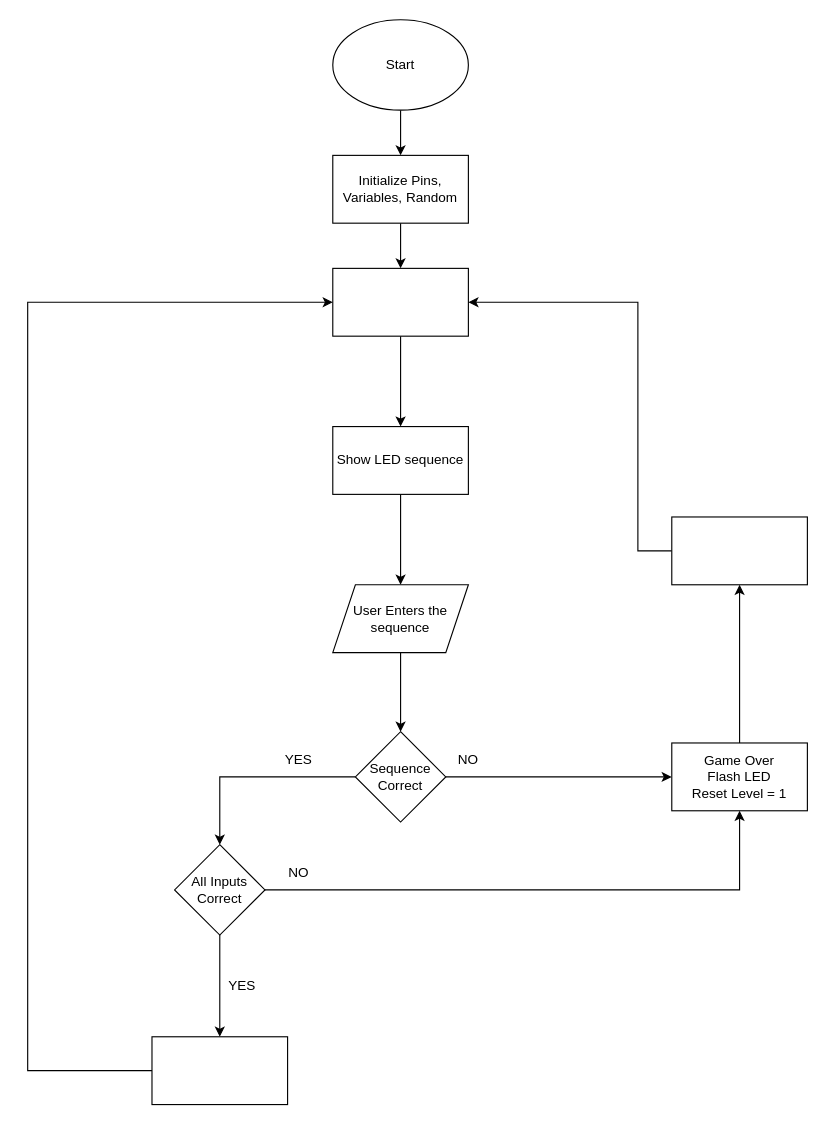
This 827x1124 diagram has some shape labels left out. Each missing label, with the centre of its shape:
"Generate random LED for each level" belongs at (400,301).
"Increment Level" belongs at (219,1070).
"Restart" belongs at (739,550).
